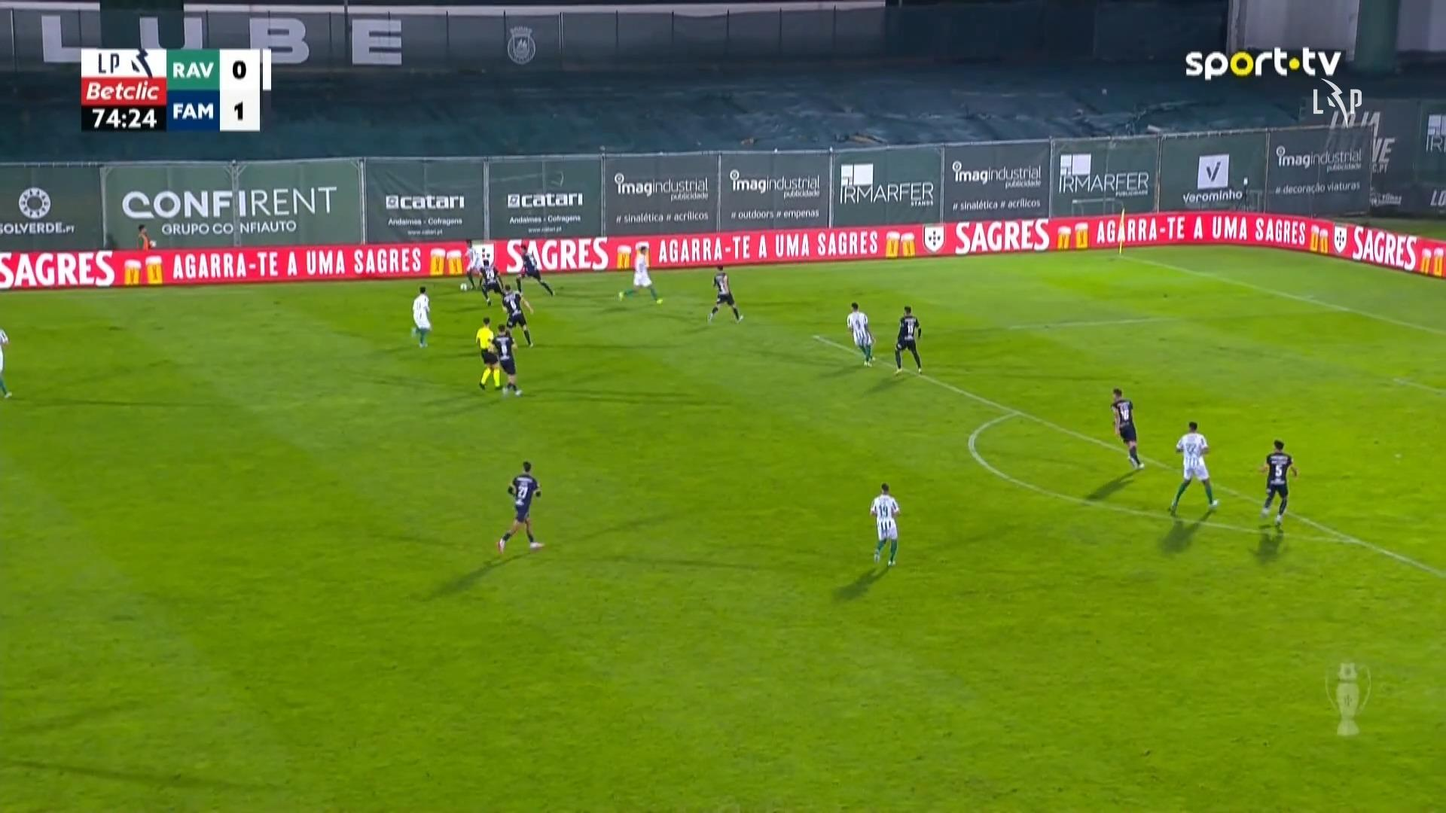ball: (507, 485, 515, 495), (459, 282, 466, 291)
player: (1167, 420, 1218, 515), (496, 460, 545, 554), (1258, 438, 1298, 530), (617, 241, 664, 304), (1109, 386, 1144, 470), (869, 482, 900, 565), (490, 324, 522, 396), (706, 264, 743, 324), (514, 241, 554, 296), (499, 283, 533, 347), (893, 305, 923, 373), (846, 301, 874, 367), (410, 285, 432, 348), (477, 252, 502, 306), (461, 238, 480, 290), (0, 327, 13, 398)
referee: (475, 315, 502, 390)
